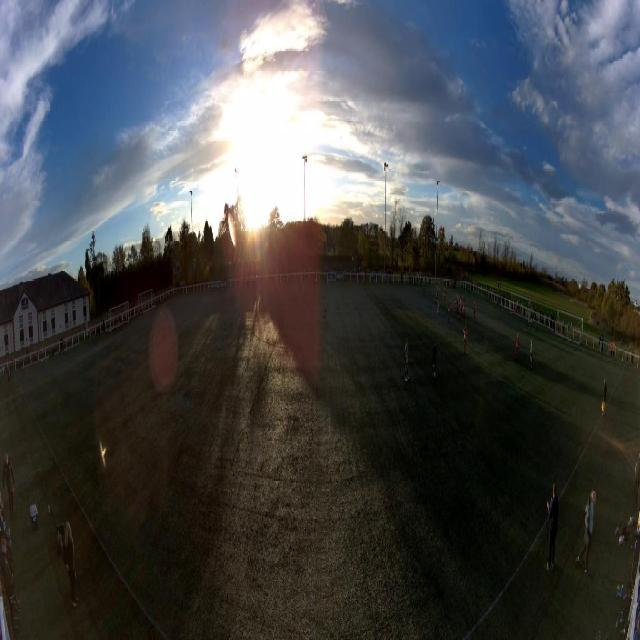ball: (434, 371, 436, 378)
player: (432, 339, 438, 378), (404, 337, 409, 383), (515, 333, 520, 361), (463, 323, 467, 354), (529, 338, 533, 368), (323, 294, 327, 322), (159, 308, 163, 327), (437, 301, 440, 323), (448, 301, 451, 323), (473, 301, 476, 322), (460, 296, 463, 317), (458, 296, 461, 316), (463, 300, 466, 319), (455, 294, 458, 311), (514, 303, 517, 319), (436, 286, 439, 302), (443, 287, 445, 304), (423, 277, 425, 292)
